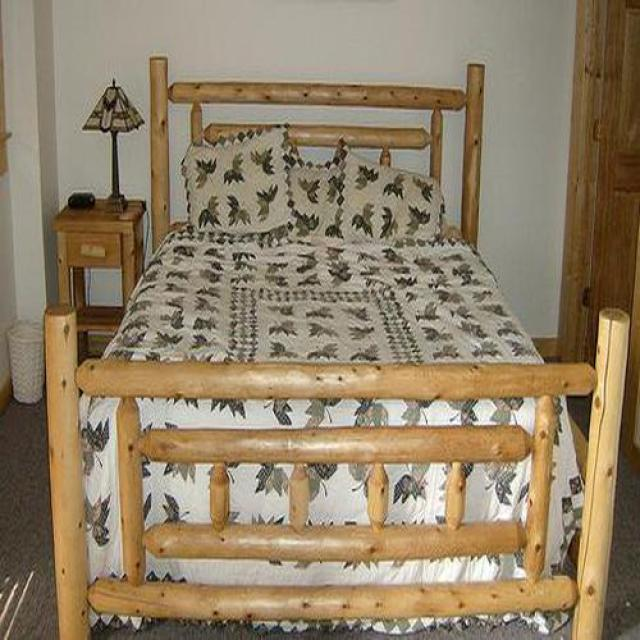bed: (44, 56, 631, 640)
